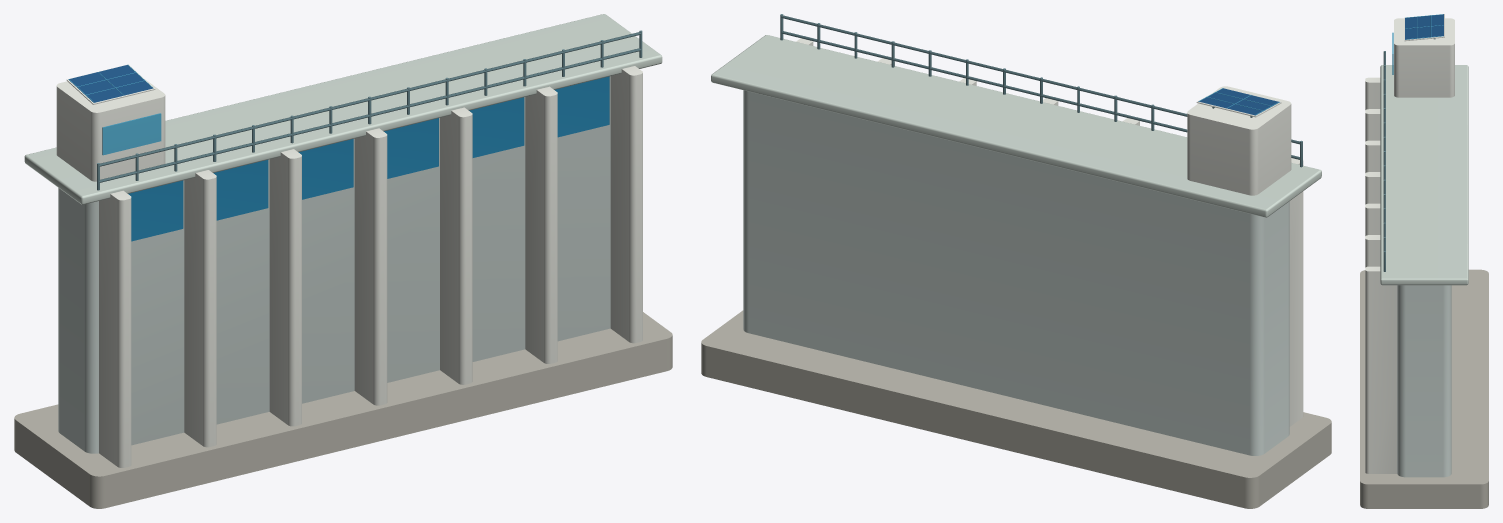
The model's file is river-dam.glb.
The picture shows the model from 3 angles, left to right: view 1: azimuth 30°, elevation 25°; view 2: azimuth 150°, elevation 25°; view 3: azimuth 270°, elevation 25°; orthographic projection. The views are drawn at different scales.
Visible parts, largest first — view 1: dam concrete breast, spillway buttress, dam footing, reservoir walkway, spillway dark opening, dam railing, control room windows, photovoltaic cells; view 2: dam concrete breast, dam footing, reservoir walkway, spillway buttress, dam railing, photovoltaic cells; view 3: reservoir walkway, spillway buttress, dam footing, dam concrete breast, photovoltaic cells, dam railing, control room windows.
Boxes of the visible parts, left/top/right/bottom form: dam concrete breast: left=58, top=76, right=610, bottom=453; spillway buttress: left=56, top=64, right=642, bottom=467; dam footing: left=14, top=312, right=672, bottom=508; reservoir walkway: left=24, top=14, right=662, bottom=204; spillway dark opening: left=128, top=76, right=609, bottom=241; dam railing: left=97, top=30, right=642, bottom=190; control room windows: left=68, top=64, right=161, bottom=155; photovoltaic cells: left=68, top=65, right=153, bottom=102; dam concrete breast: left=743, top=90, right=1289, bottom=455; dam footing: left=701, top=310, right=1331, bottom=508; reservoir walkway: left=711, top=35, right=1321, bottom=217; spillway buttress: left=796, top=38, right=1303, bottom=426; dam railing: left=780, top=14, right=1302, bottom=167; photovoltaic cells: left=1198, top=88, right=1279, bottom=115; reservoir walkway: left=1380, top=65, right=1468, bottom=285; spillway buttress: left=1365, top=14, right=1454, bottom=473; dam footing: left=1360, top=269, right=1488, bottom=508; dam concrete breast: left=1397, top=285, right=1451, bottom=477; photovoltaic cells: left=1405, top=14, right=1443, bottom=39; dam railing: left=1383, top=38, right=1435, bottom=271; control room windows: left=1392, top=14, right=1443, bottom=74.
Bounding box in the file's own units: 15 × 9.47 × 3.8.
